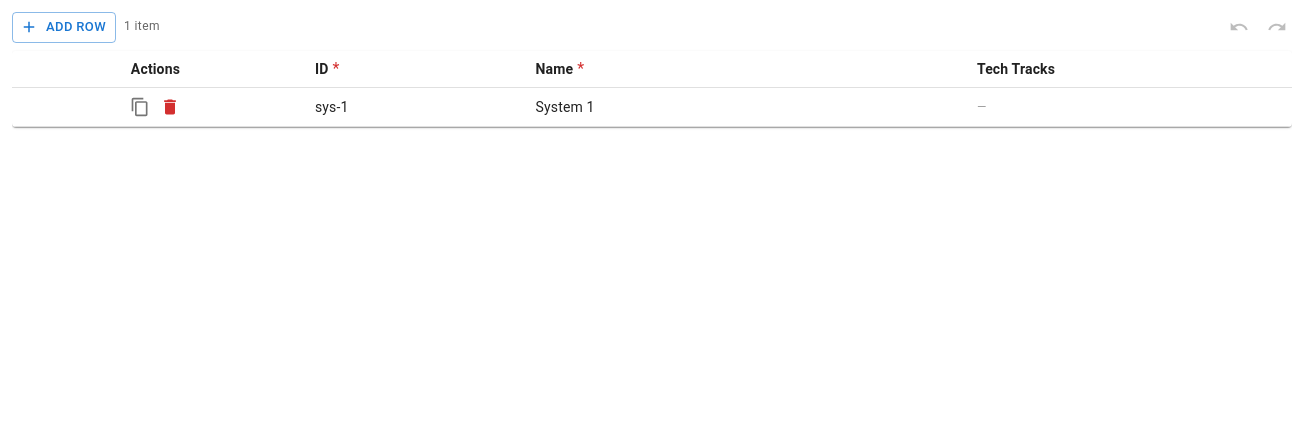
Test: EditableDataGrid › modTechTracks › shows mod-defined tech tracks in popover alongside base tracks
# Click the tech tracks cell to open the popover
What coordinates should you click on to do the following:
click the text "—"
I would click on:
 (982, 107)
Its box is left=977, top=100, right=987, bottom=114.
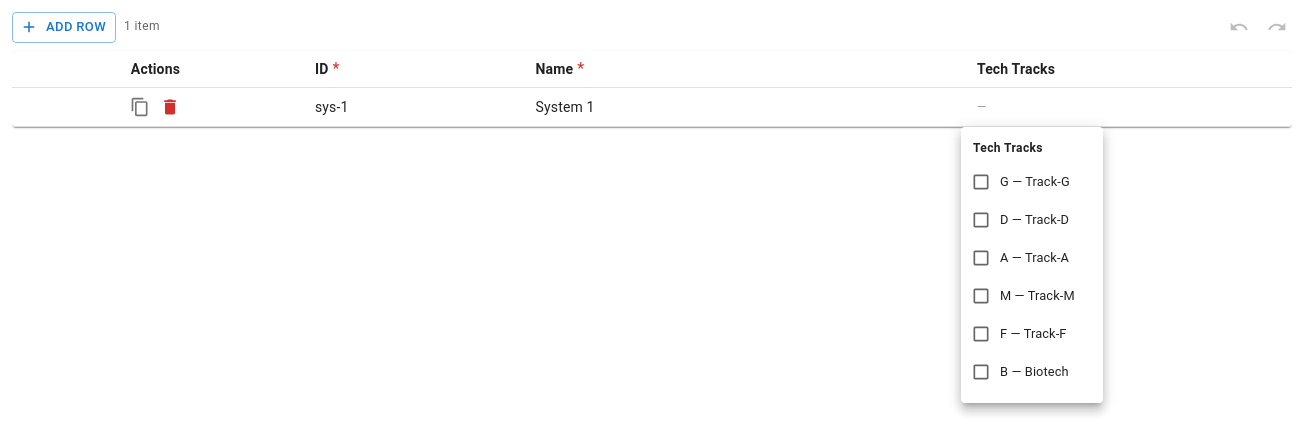
Now the text "G — Track-G" is shown, box left=1000, top=174, right=1070, bottom=189
Now the text "D — Track-D" is shown, box left=1000, top=212, right=1069, bottom=227
Now the text "B — Biotech" is shown, box left=1000, top=364, right=1069, bottom=379
